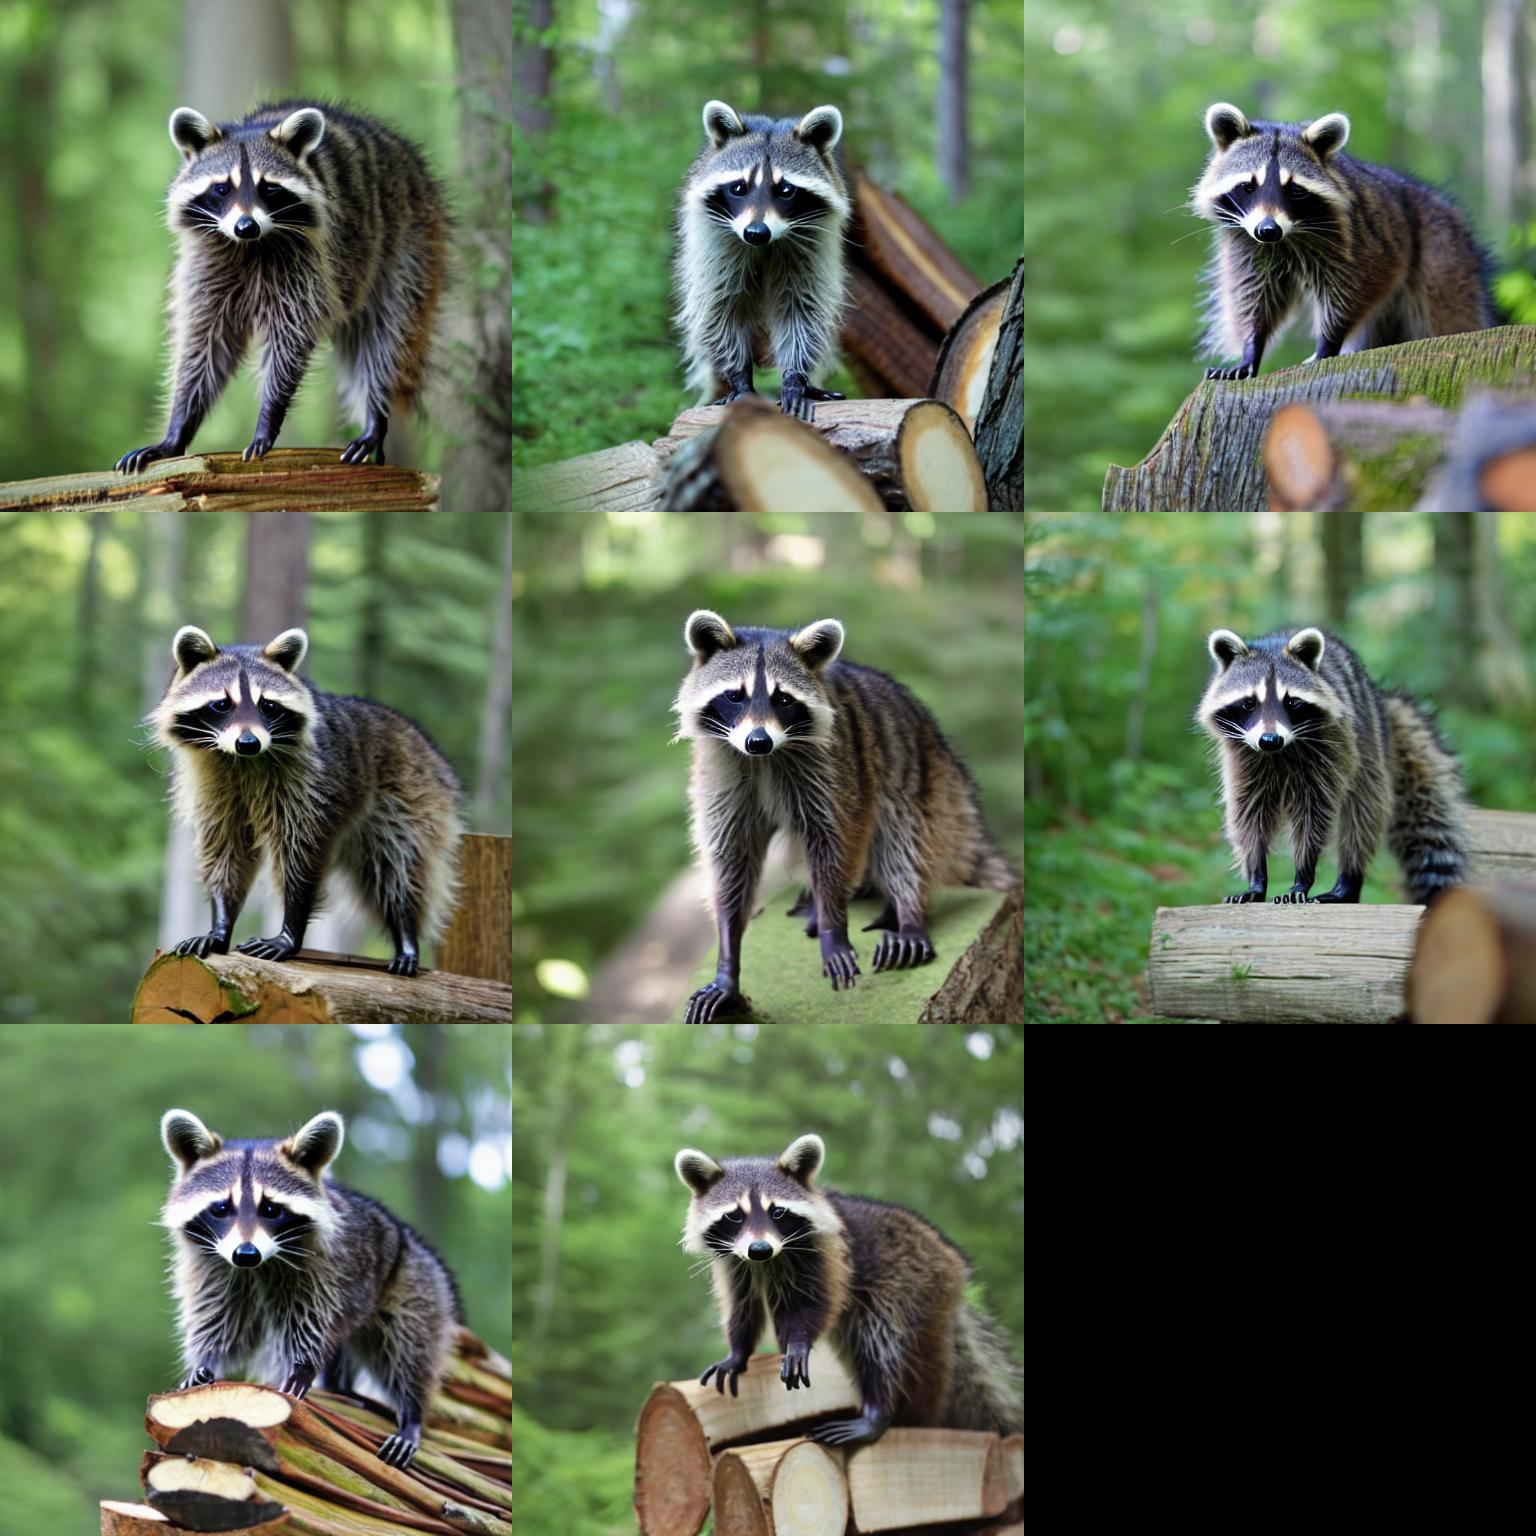raccoon: (125, 619, 473, 927), (660, 599, 1016, 899), (135, 1092, 471, 1407), (153, 90, 464, 430), (663, 1128, 1001, 1373), (1182, 91, 1502, 345), (1184, 616, 1468, 900), (667, 91, 859, 384)
